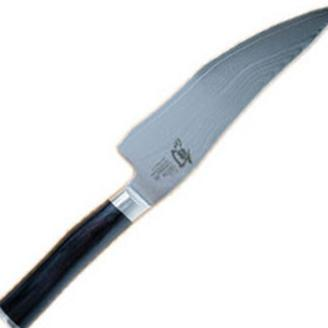knife: (1, 6, 328, 326)
